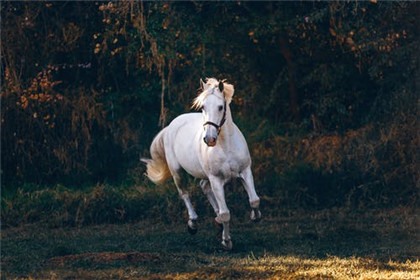horse: (140, 77, 261, 249)
